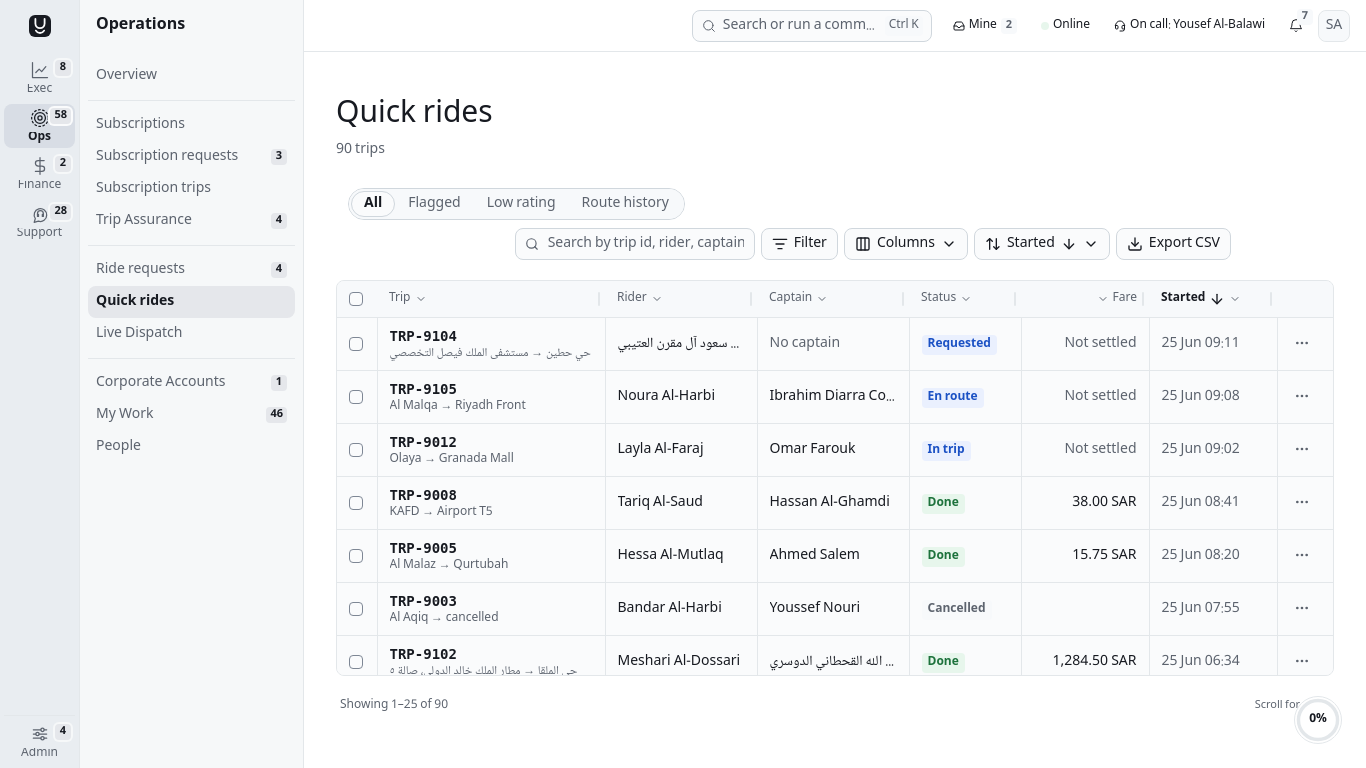
P4-T1 / D21 — the bulk bar, its three sentences and its escape hatch › offers the bar with a count and a clear once anything is selected
Expected: the link "TRP-9104" is shown, x1=390 y1=328 x2=457 y2=344
Click the checkbox named "Select row" next to "TRP-9104": x=356, y=344 x1=349 y1=337 x2=363 y2=351
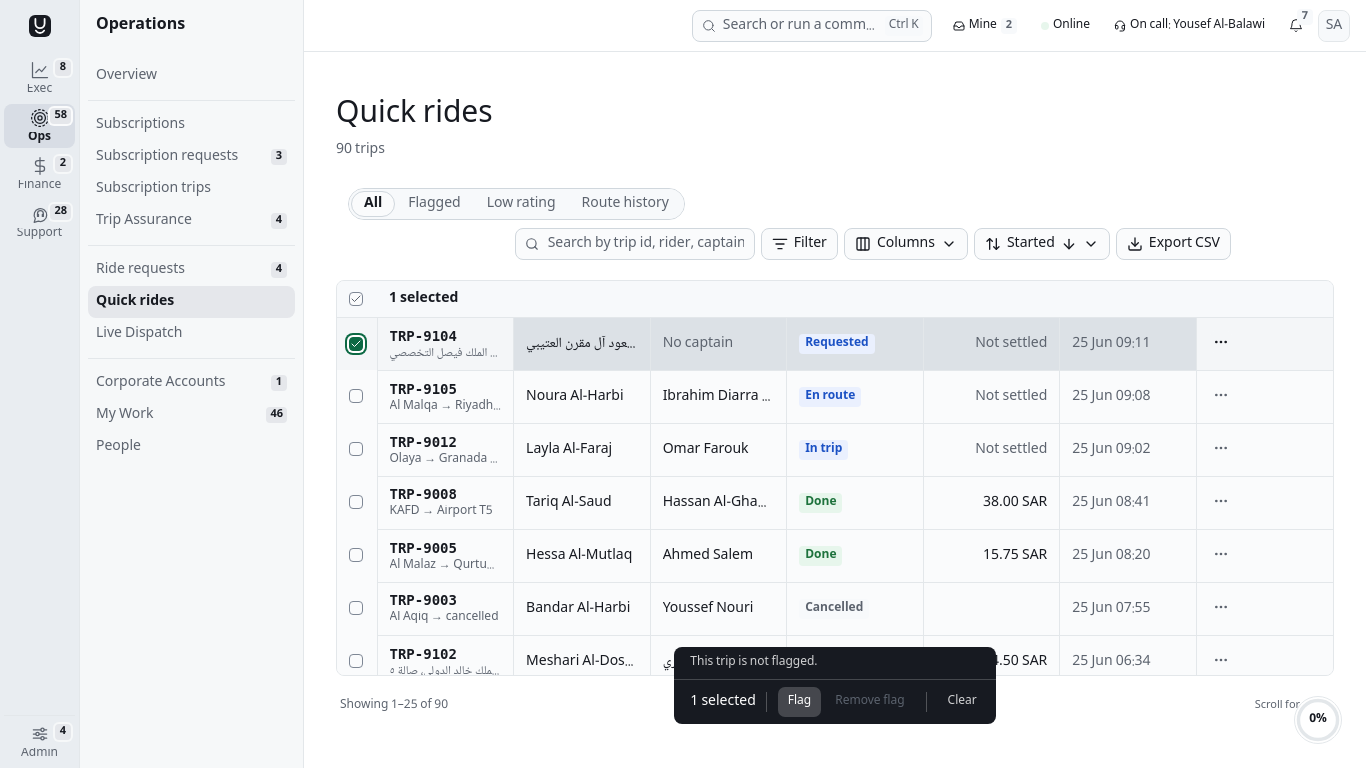
Expected: the button "Flag" is enabled, x1=777 y1=686 x2=822 y2=718
